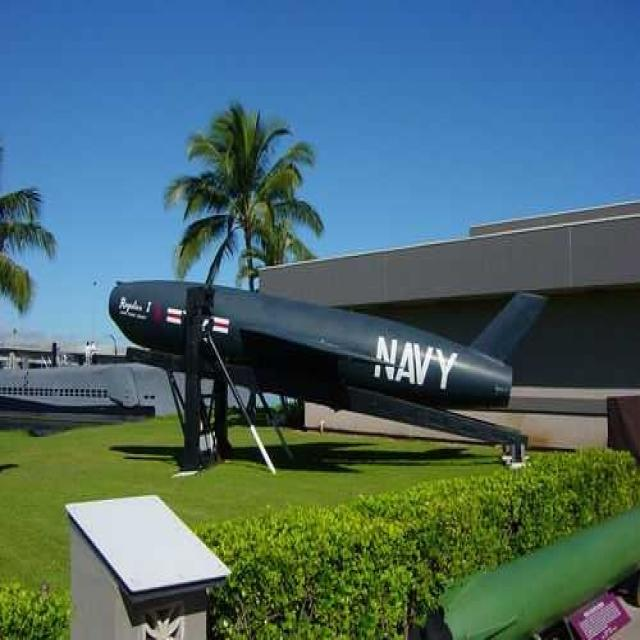missile: (108, 272, 550, 416)
